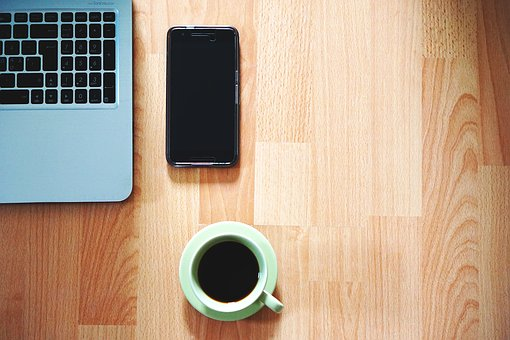mobile: (160, 27, 249, 173)
